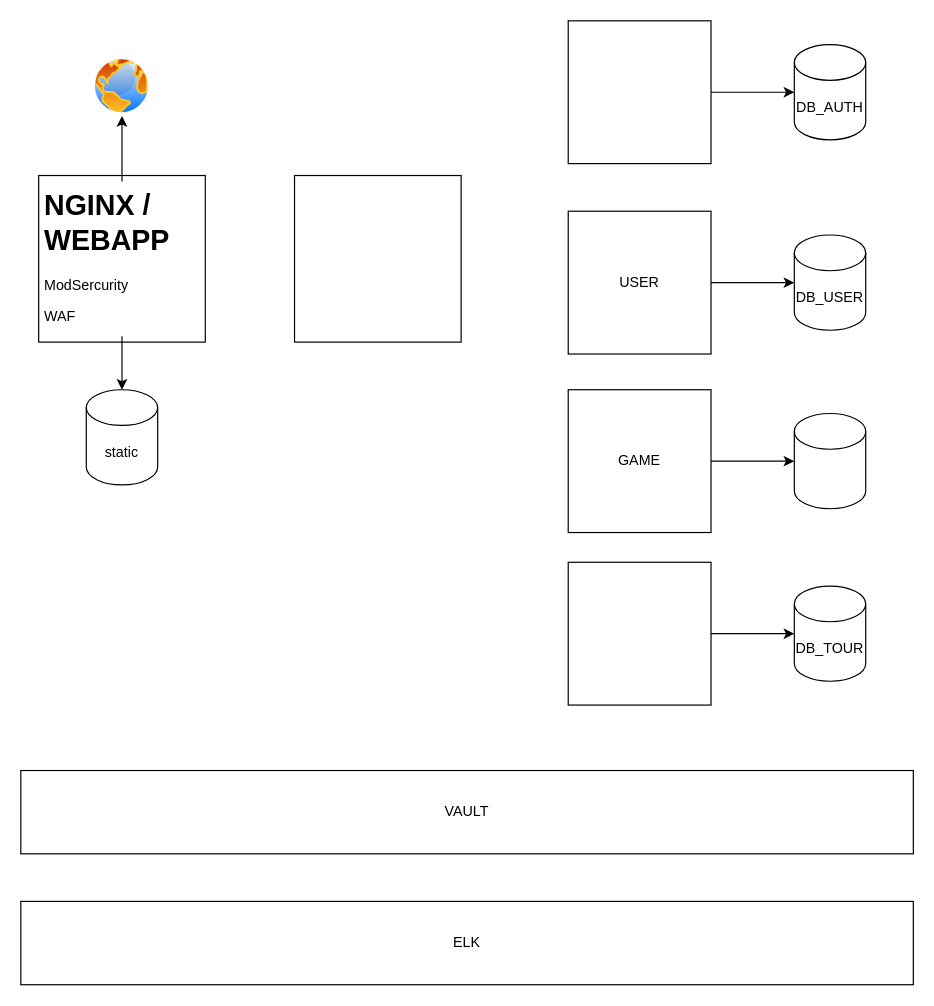
Image size: 934x1006. Some labels were removed from this diagram. Here are the shapes that lost their labels. From the top down, the box of each, then its label:
(567, 20, 711, 164): AUTENTICAÇÃO
(293, 174, 461, 342): NGINX / API Gateway
(793, 412, 866, 509): DB_GAME
(567, 561, 711, 705): TOURNMENT
